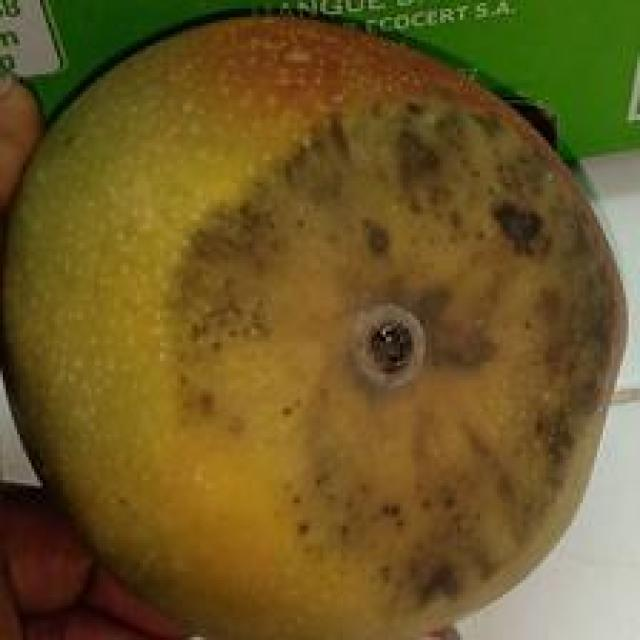Bad_Mango: (1, 18, 624, 640)
